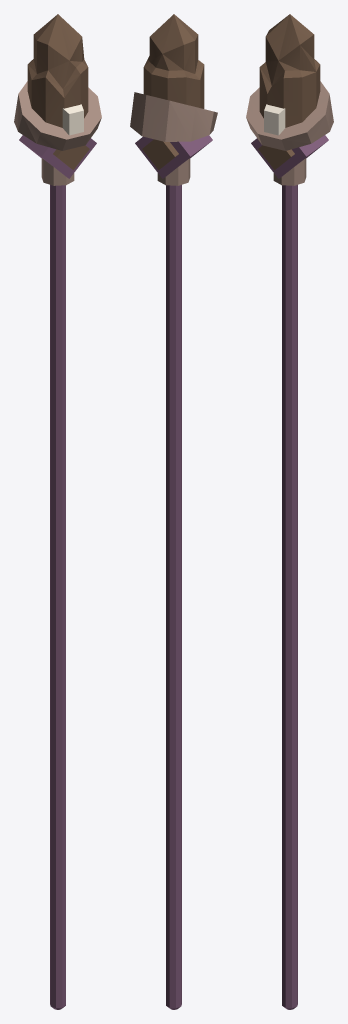
Rendered from cane-1.glb.
The picture shows the model from 3 angles, left to right: view 1: azimuth 30°, elevation 25°; view 2: azimuth 150°, elevation 25°; view 3: azimuth 330°, elevation 25°; orthographic projection.
Visible parts, largest first — view 1: cane_1; view 2: cane_1; view 3: cane_1.
Boxes of the visible parts, x1,y1,x2,y2 form: cane_1: (14, 14, 101, 1009); cane_1: (130, 14, 217, 1009); cane_1: (246, 14, 333, 1009).
Size of the model in its own units: 15.18 by 191 by 14.21.
1 material, 1 textured.
